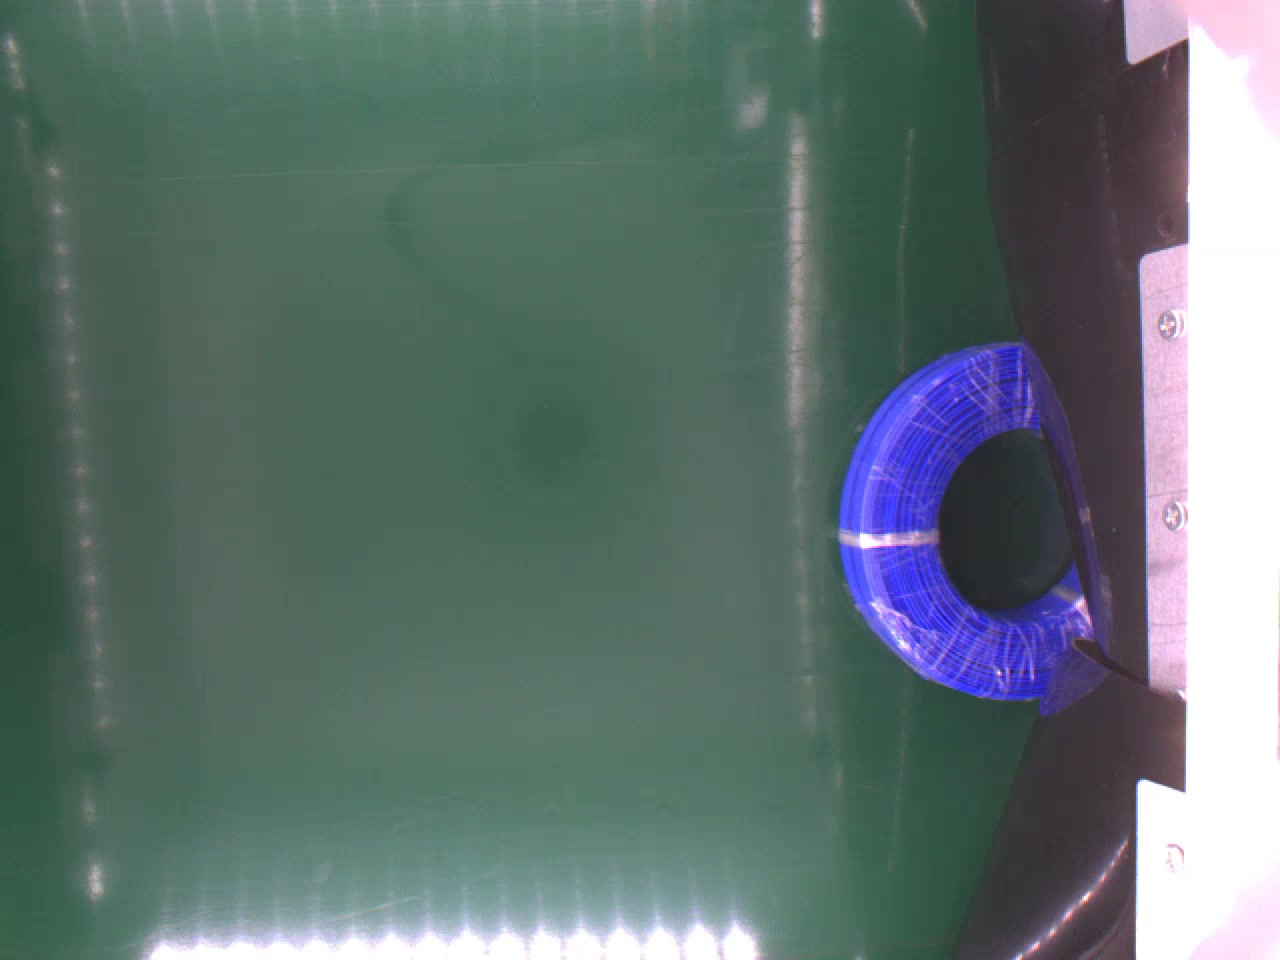blue: (836, 340, 1090, 702)
